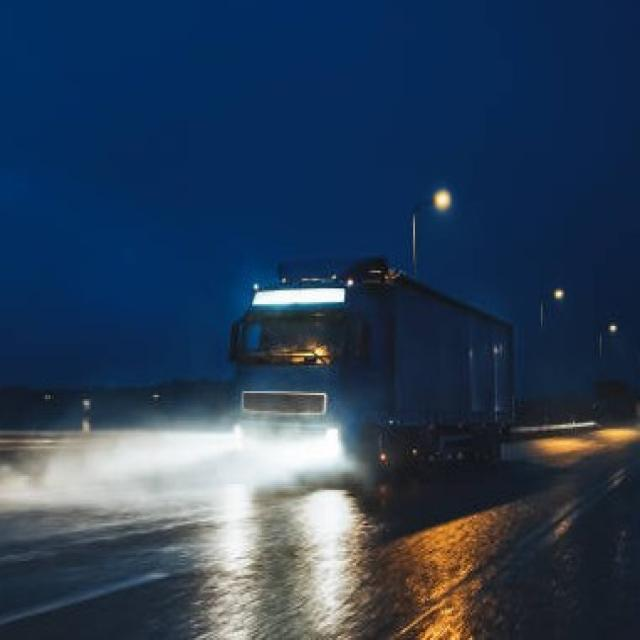truck: (224, 253, 518, 486)
